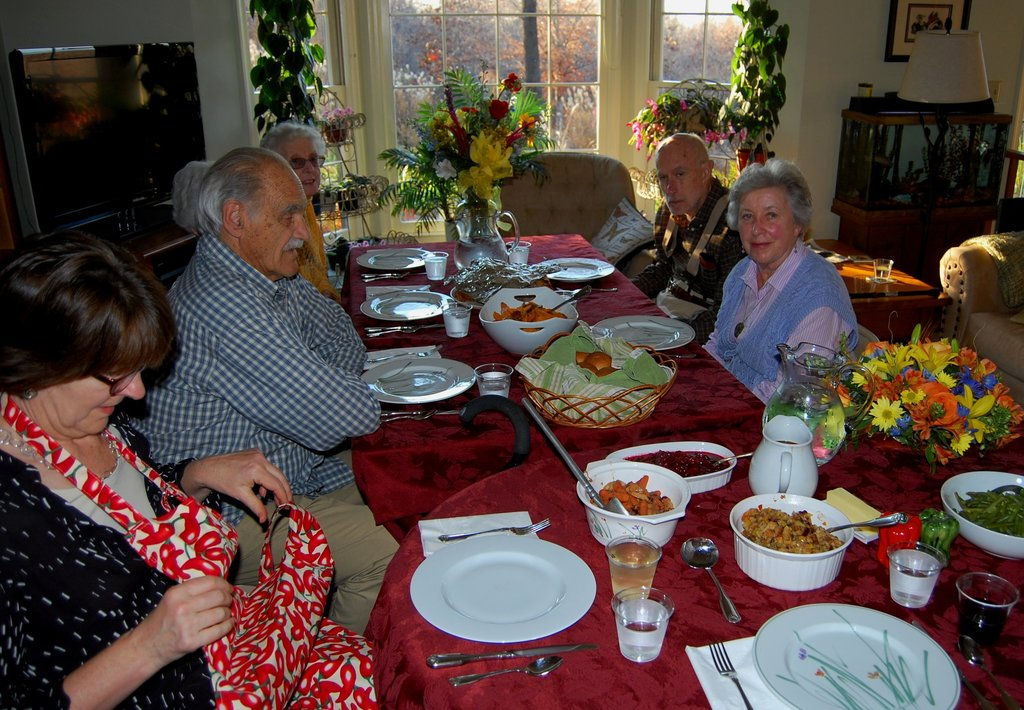plate: (396, 520, 613, 651), (357, 244, 436, 276), (542, 255, 613, 285)
